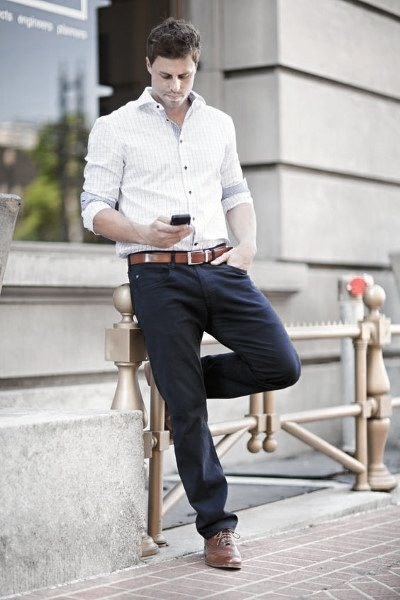NOTSAFE: (120, 17, 229, 276)
